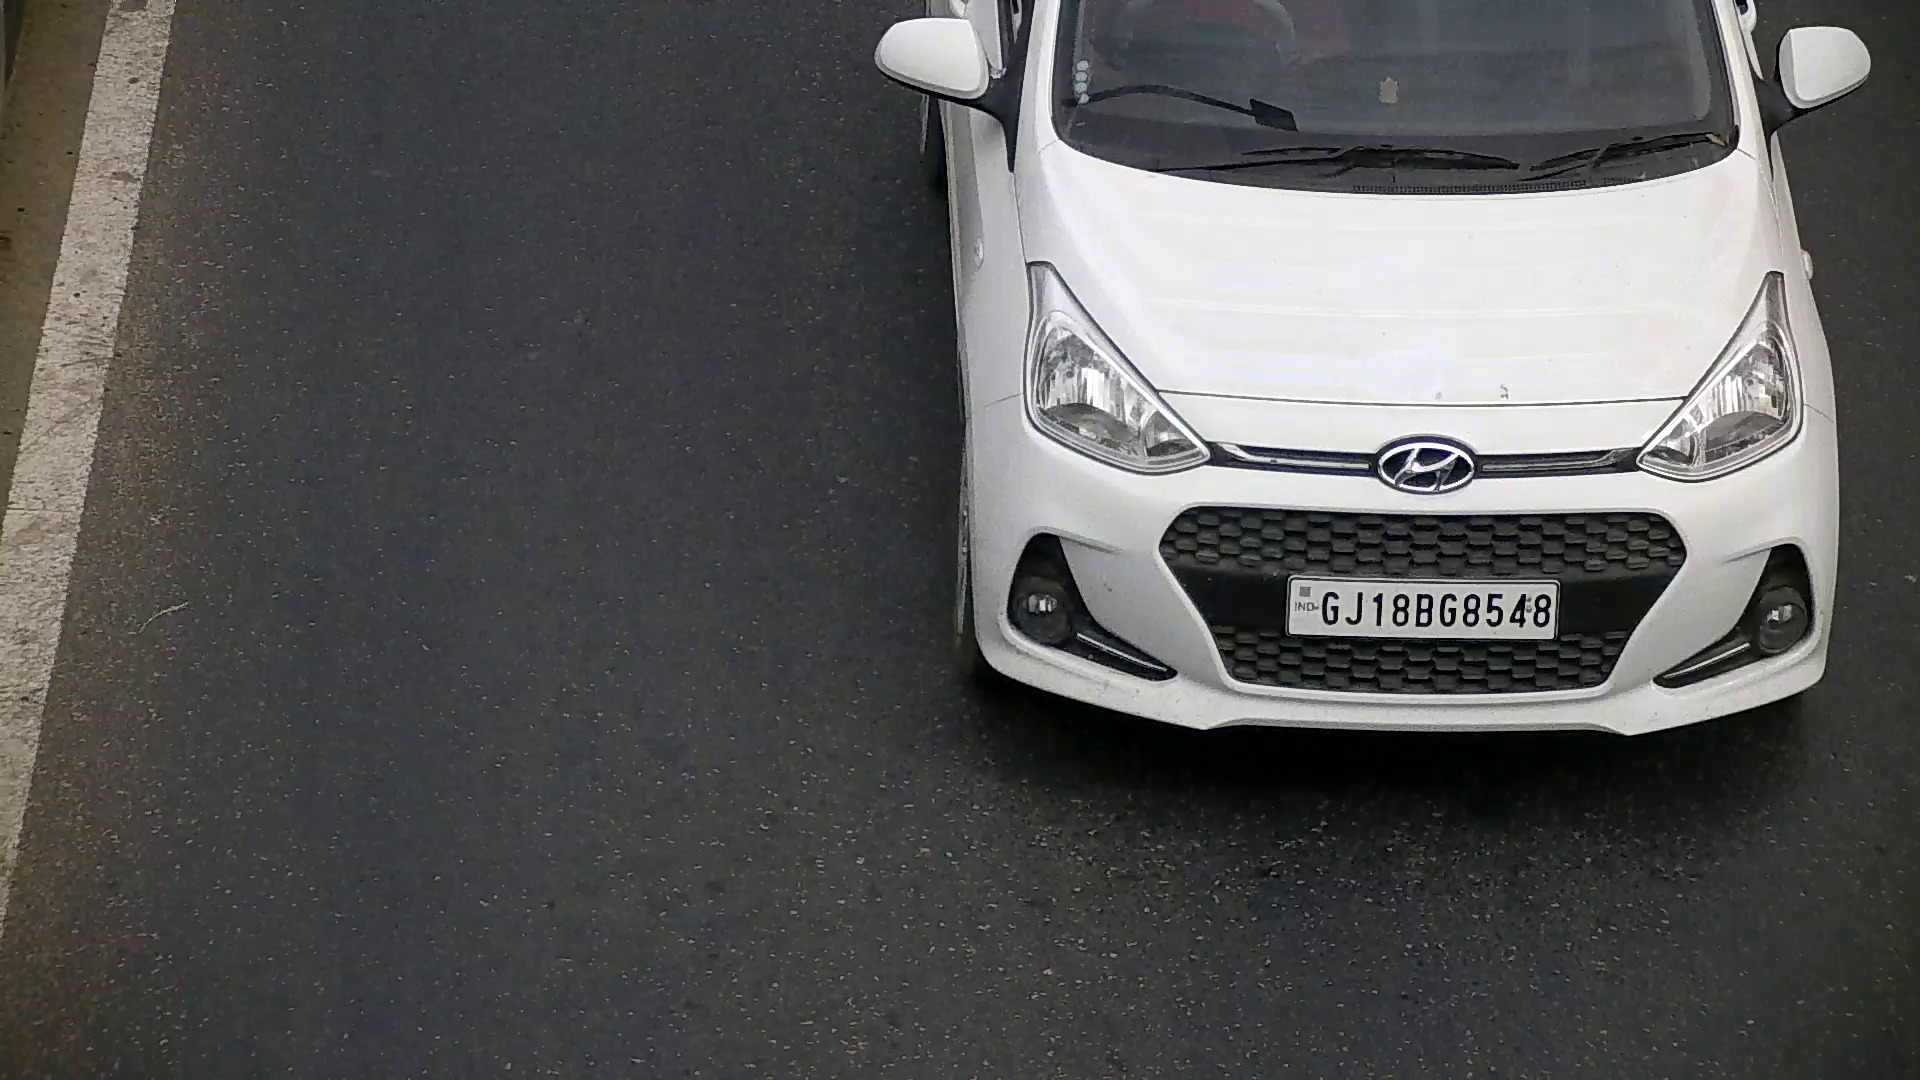numberplate: (1284, 572, 1562, 642)
